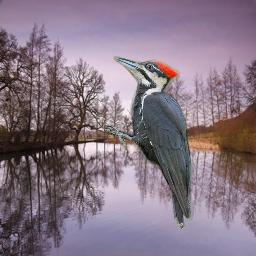Woodpecker: (104, 56, 199, 229)
